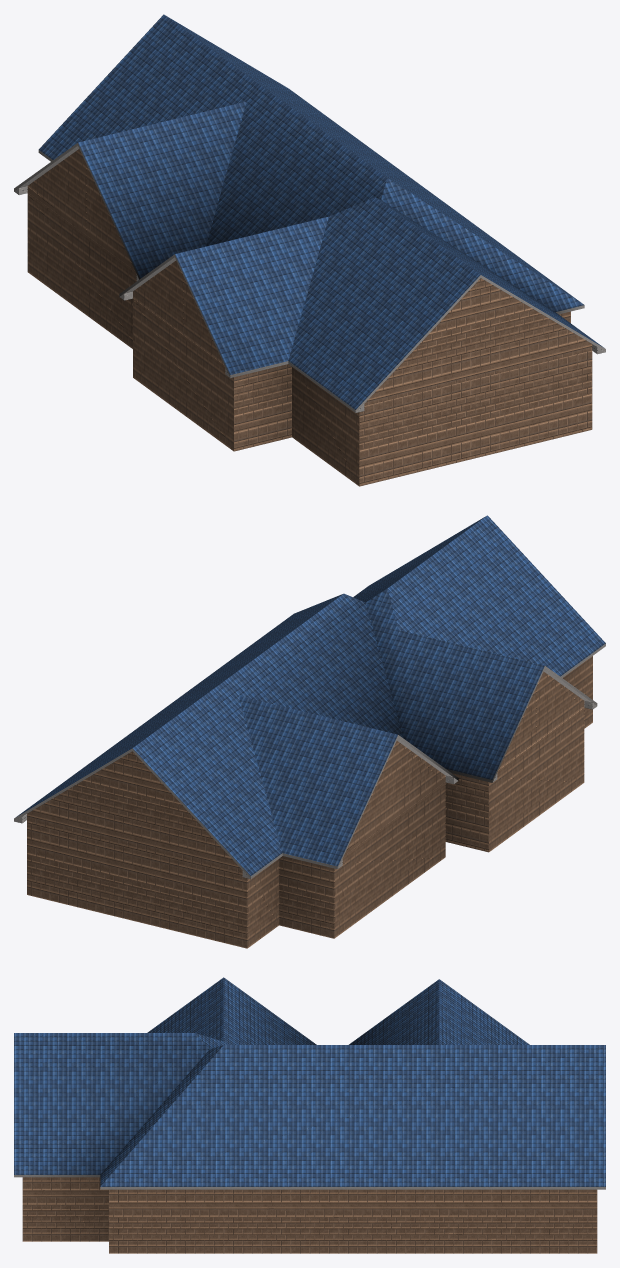
File: house_015.glb
3 renders of one model, top to bottom at view 1: azimuth 30°, elevation 25°; view 2: azimuth 150°, elevation 25°; view 3: azimuth 270°, elevation 25°, orthographic. The views are drawn at different scales.
Parts seen in each view (by area): view 1: Export; view 2: Export; view 3: Export.
Boxes of the visible parts, <box> form: Export: <box>14,14,605,486</box>; Export: <box>14,515,605,948</box>; Export: <box>14,977,605,1253</box>.
Bounding box in the file's own units: 11.6 × 6.14 × 20.6.
Materials: 3 (3 with a texture image).
